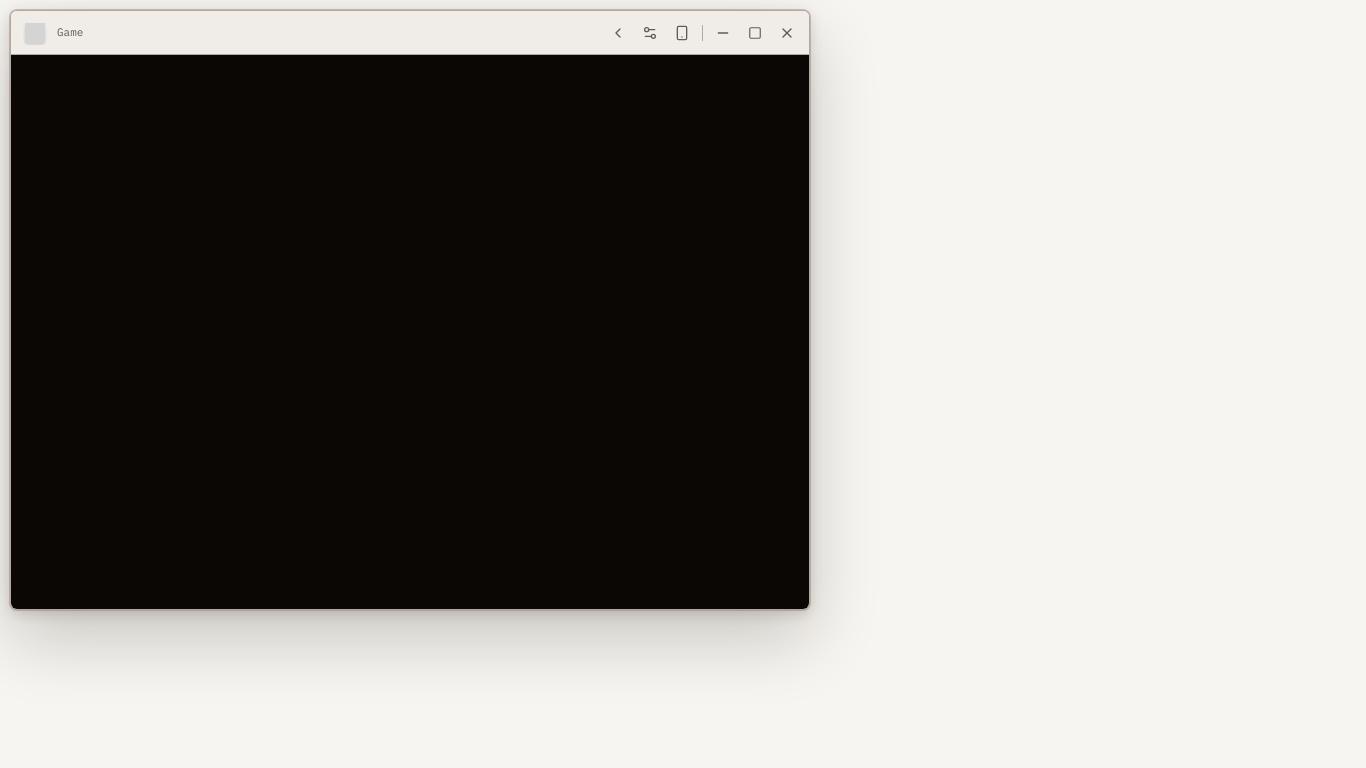
Test case: Hub: genel "Gerçek çözünürlük" kapalıyken Dinamik DP karosu › genel ayar kapalı › pencere "Genele uy" olsa bile karo kapalı görünür ve nedenini yazar
Click the button named "Pencere Hub ayarları" at [650, 32], box [634,16,666,48]
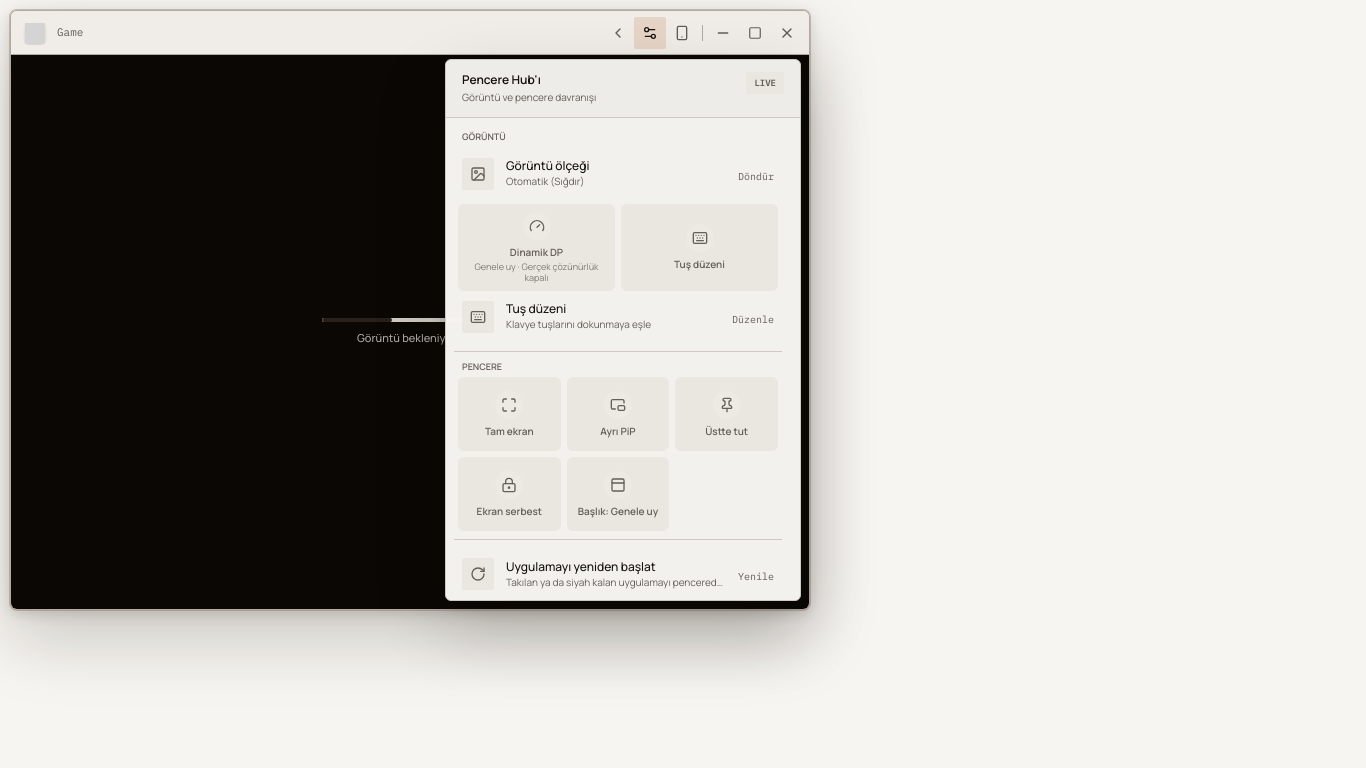
Expected: the button with aria-label "Dinamik DP: kapalı" does not show "Açık", [458,204,615,290]
Expected: the button with aria-label "Dinamik DP: kapalı" shows "Genele uy · Gerçek çözünürlük kapalı", [458,204,615,290]
